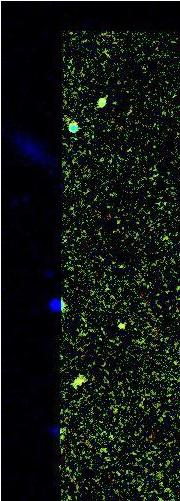star: (100, 309, 130, 339)
